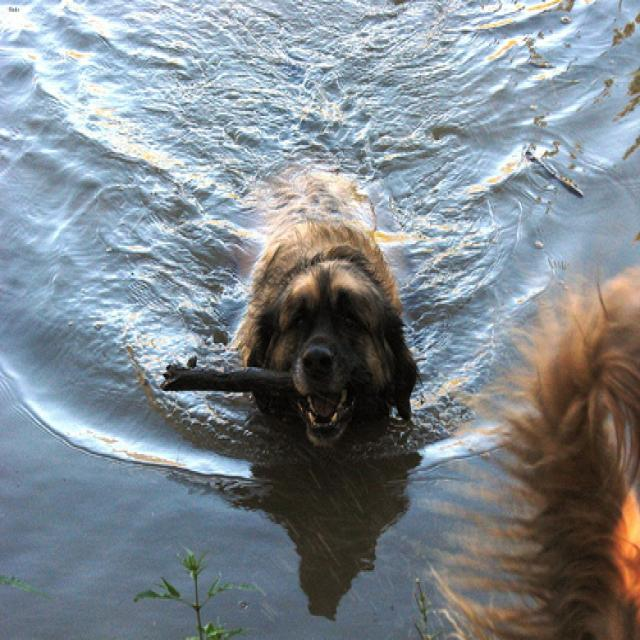dog: (246, 256, 414, 444)
